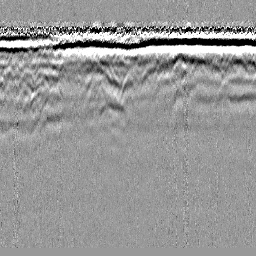cavity: (118, 71, 139, 107)
